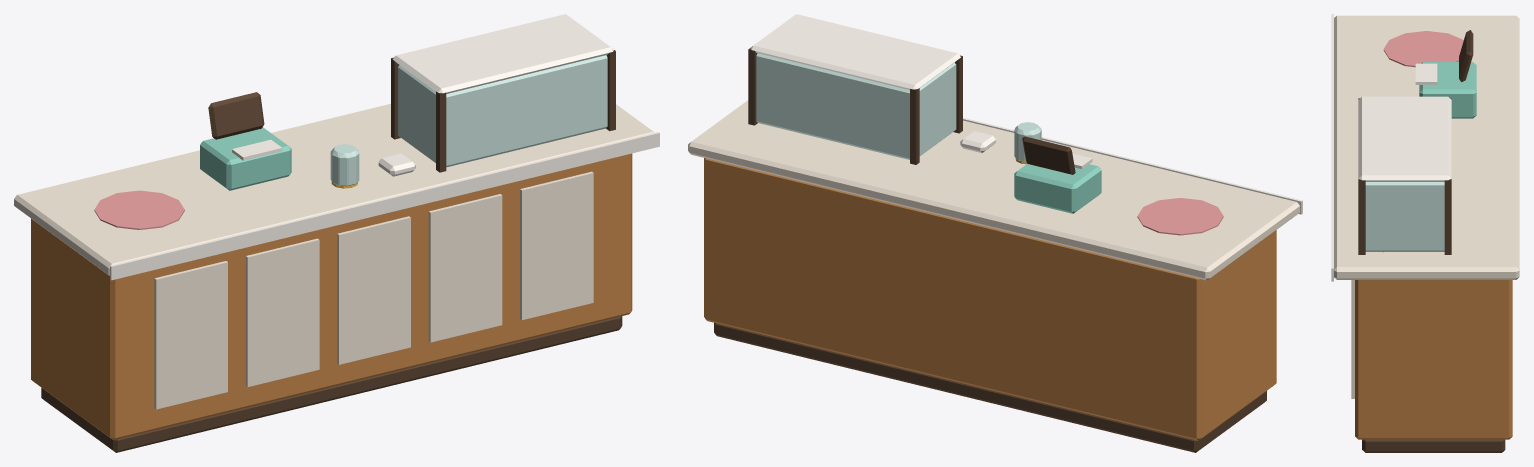
File: CatCafe_Furniture_Counter.glb
3 views of the same model, side by side, from view 1: azimuth 30°, elevation 25°; view 2: azimuth 150°, elevation 25°; view 3: azimuth 270°, elevation 25° (orthographic). The views are drawn at different scales.
Parts seen in each view (by area): view 1: CatCafe_Furniture_Counter; view 2: CatCafe_Furniture_Counter; view 3: CatCafe_Furniture_Counter.
Part boxes in pixels (left/top/right/bottom): CatCafe_Furniture_Counter: left=14, top=14, right=659, bottom=452; CatCafe_Furniture_Counter: left=688, top=14, right=1302, bottom=452; CatCafe_Furniture_Counter: left=1331, top=14, right=1519, bottom=452.
Size of the model in its own units: 8.4 by 4.2 by 2.63.
Materials: 1 (1 with a texture image).
